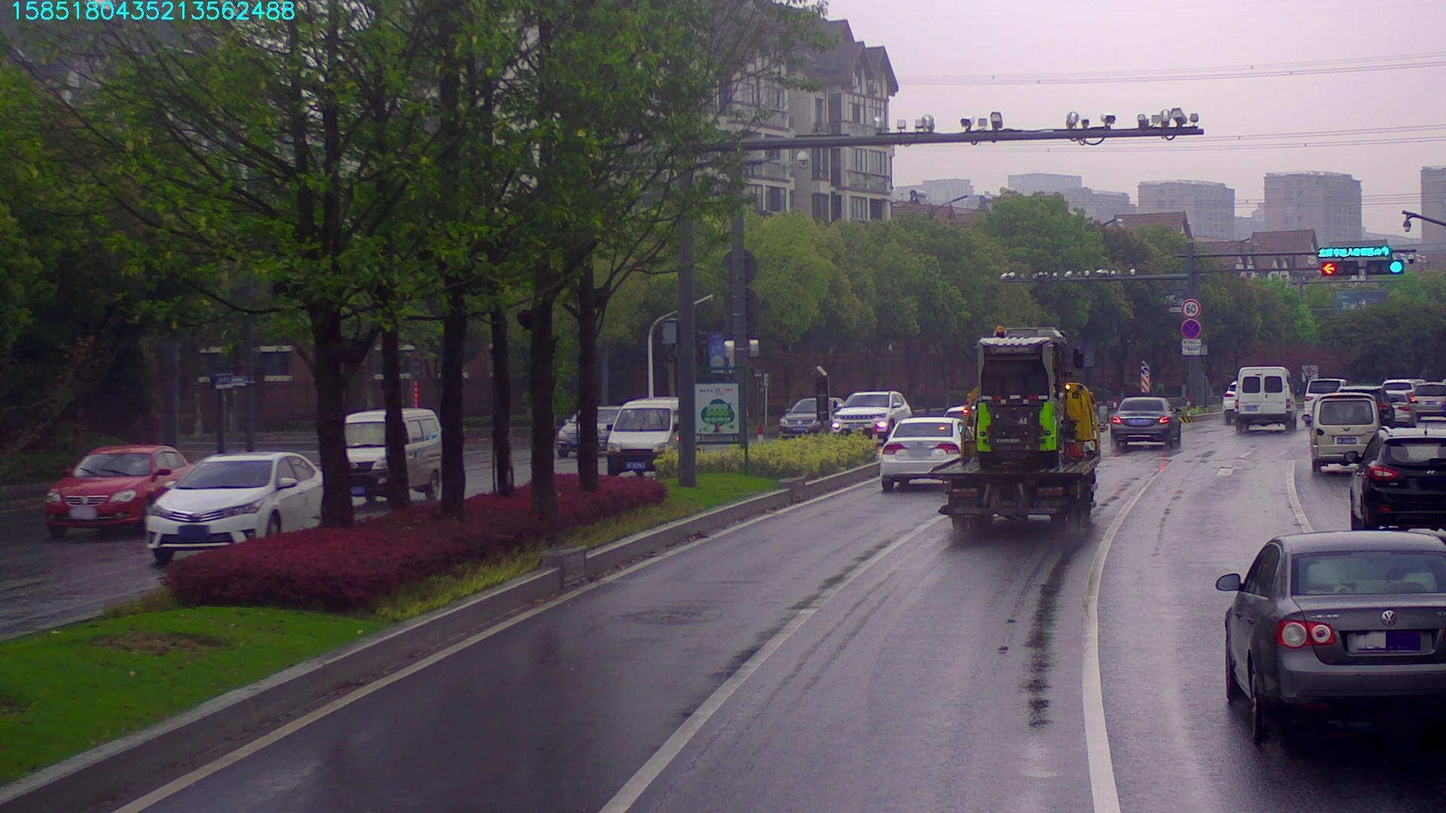green: (1366, 260, 1402, 273)
red: (1322, 264, 1362, 280)
wait_on: (1317, 242, 1390, 261)
